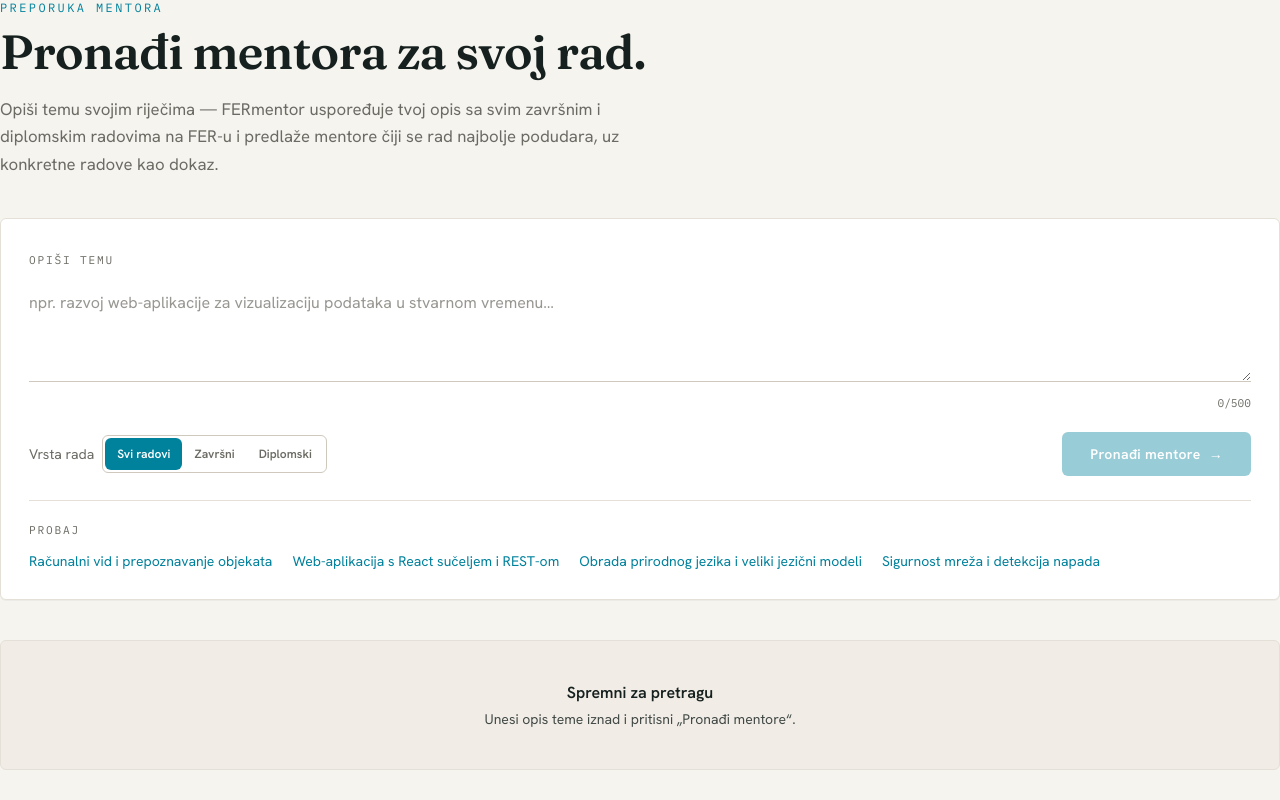
Test: SearchPage › empty-ish results state appears for a nonsense query
Type "xyzxyzxyz" into the text box labelled "Opiši temu".
click(640, 333); type("xyzxyzxyz")  # box [29,283,1251,382]
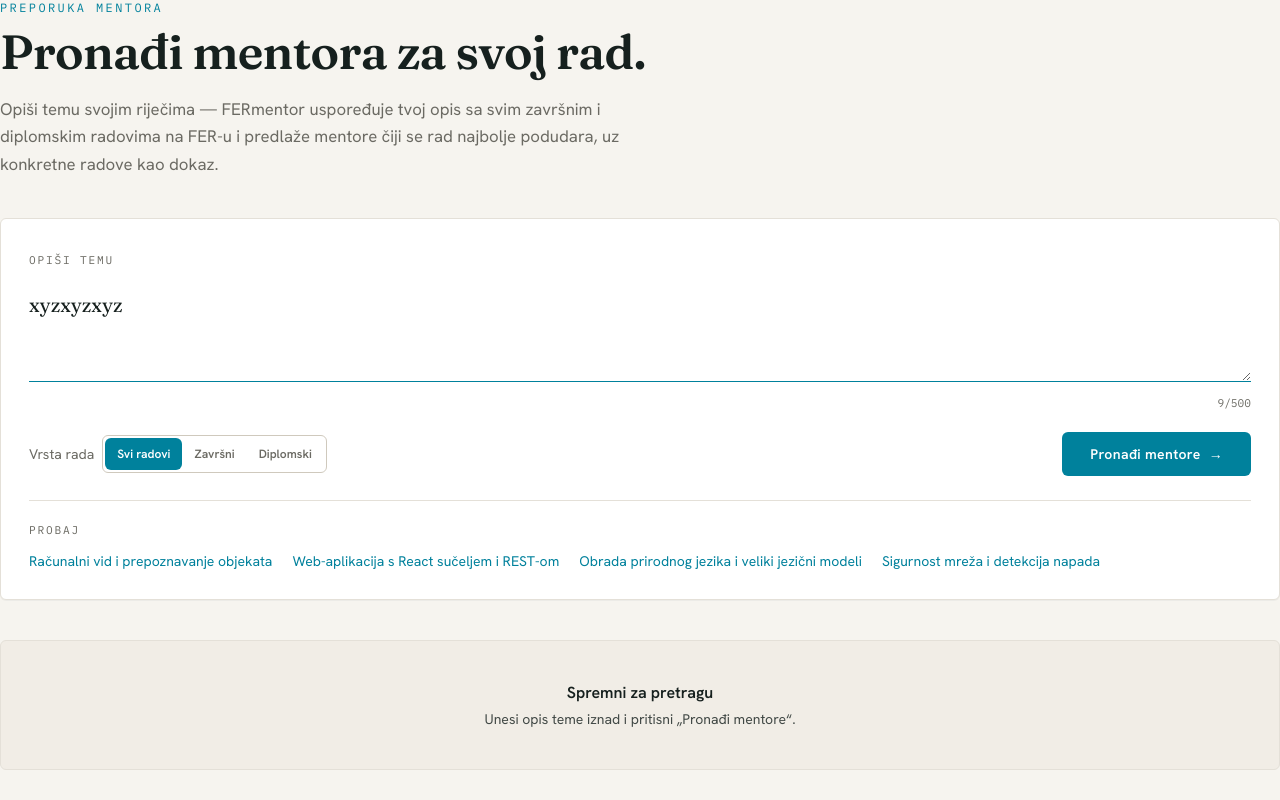
Click the button "Pronađi mentore →".
click(1157, 454)  # box [1062,432,1251,476]
(page scrolled)
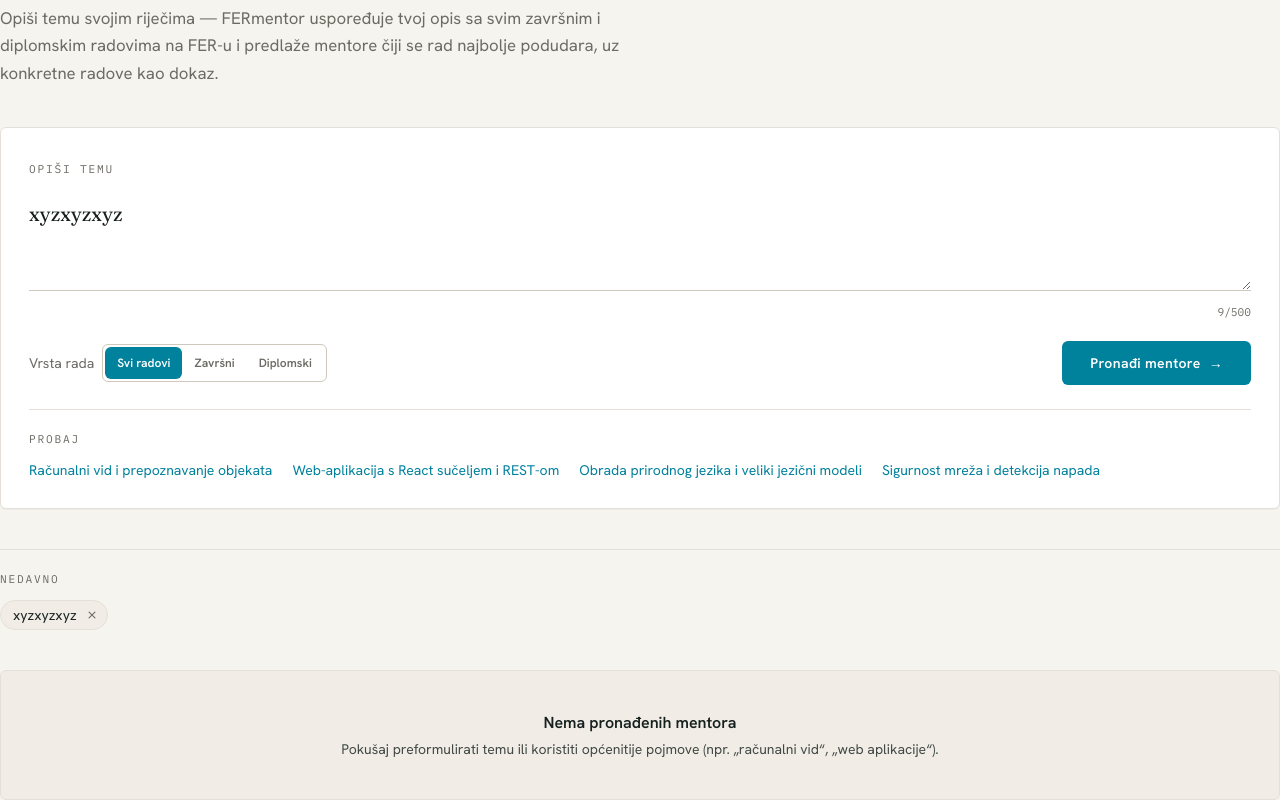
Result: the heading "Nema pronađenih mentora" is shown at [543,712,736,733]
